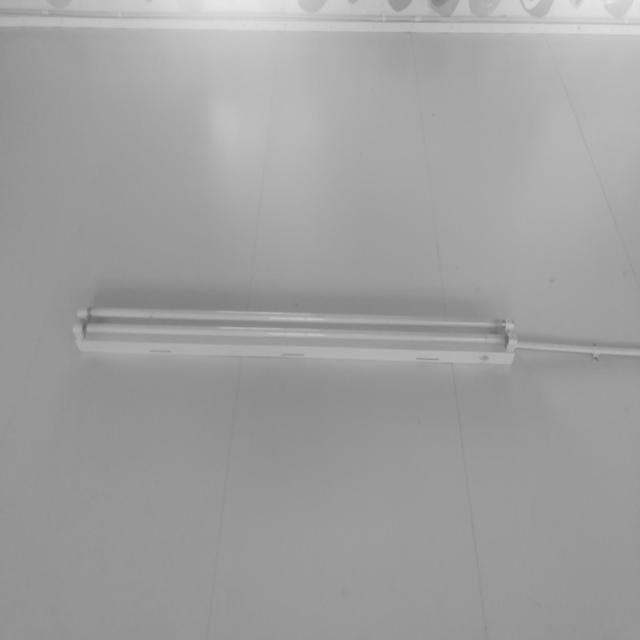light: (73, 305, 517, 365)
